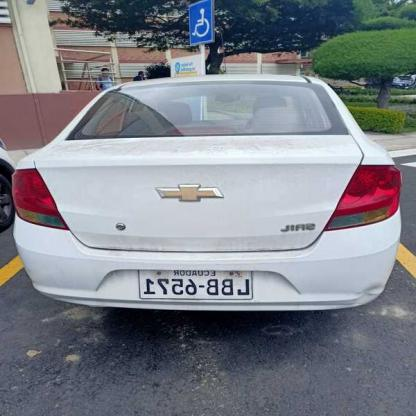Placa: (135, 270, 257, 304)
